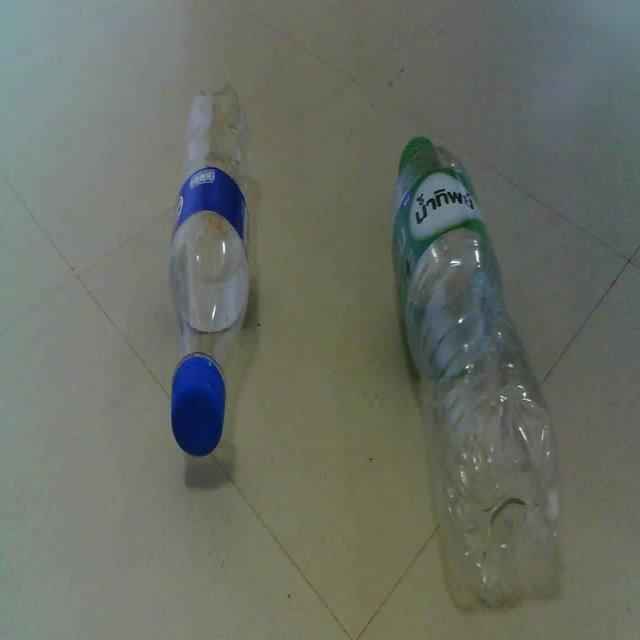empty: (391, 137, 559, 608), (169, 85, 249, 454)
